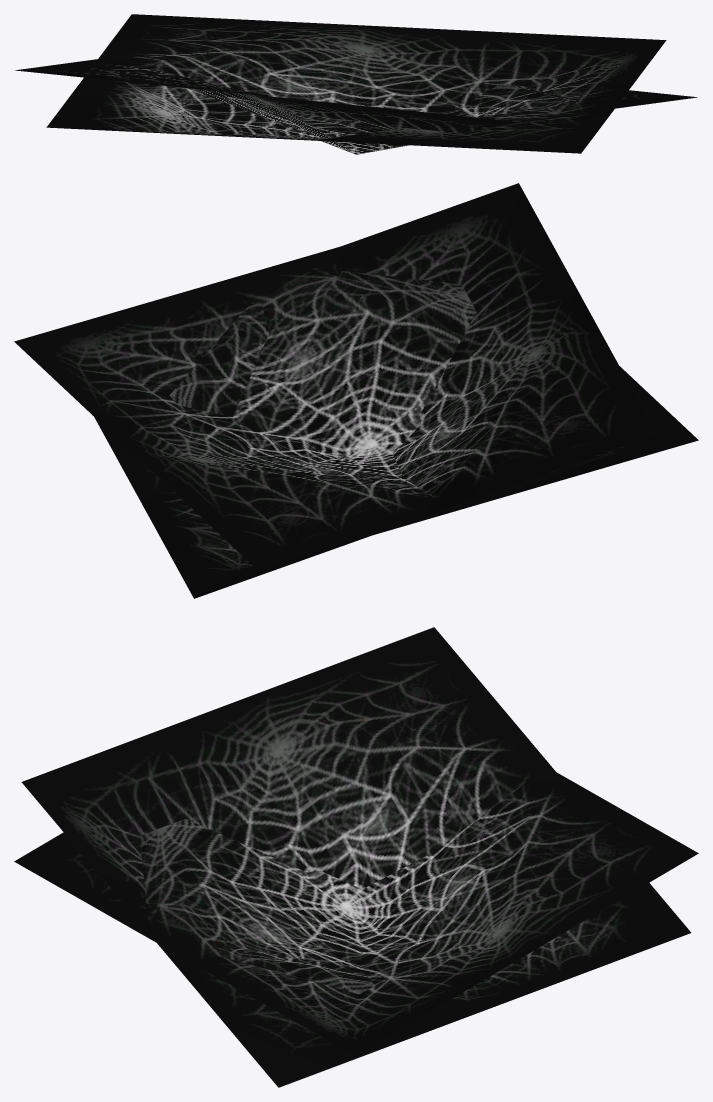
The model's file is DWARF_PALACE_SPIDERWEB01.fbx.
3 views of the same model, one above another, from view 1: azimuth 30°, elevation 25°; view 2: azimuth 150°, elevation 25°; view 3: azimuth 270°, elevation 25° (orthographic). The views are drawn at different scales.
Visible parts, largest first — view 1: DWARF_PALACE_SPIDERWEB01; view 2: DWARF_PALACE_SPIDERWEB01; view 3: DWARF_PALACE_SPIDERWEB01.
Boxes of the visible parts, bbox=[...] form: DWARF_PALACE_SPIDERWEB01: bbox=[15, 14, 697, 154]; DWARF_PALACE_SPIDERWEB01: bbox=[14, 183, 698, 598]; DWARF_PALACE_SPIDERWEB01: bbox=[14, 627, 698, 1087].
Size of the model in its own units: 96999 by 21864 by 85433.
1 material, 1 textured.
